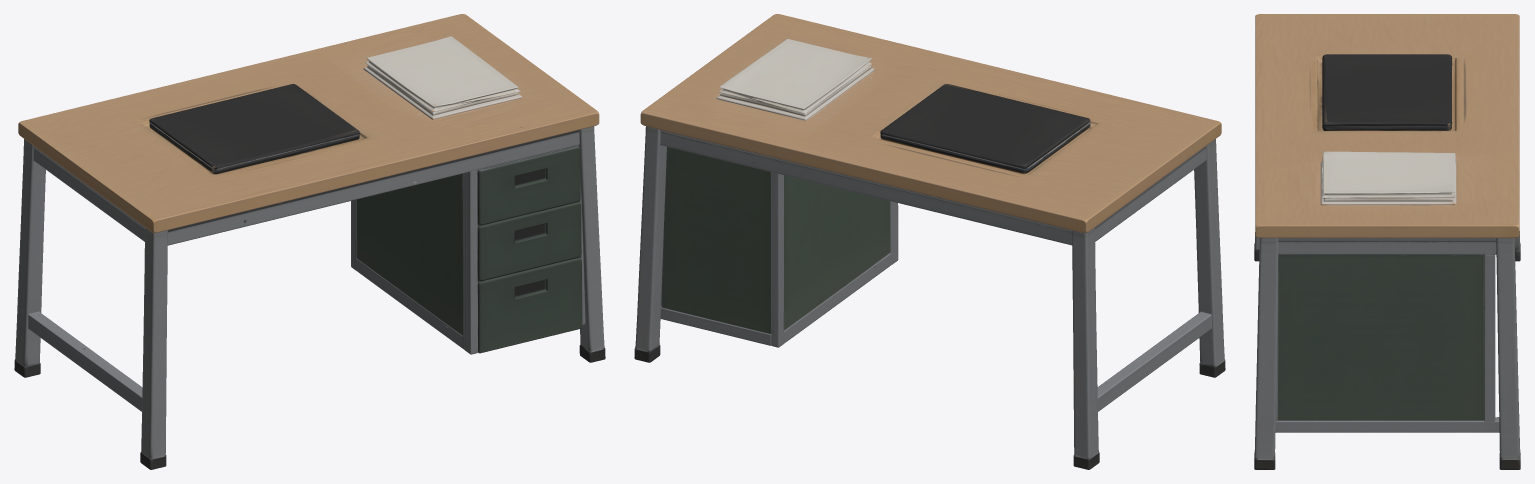
The model's file is office_desk__hunyuan.glb.
3 views of the same model, side by side, from view 1: azimuth 30°, elevation 25°; view 2: azimuth 150°, elevation 25°; view 3: azimuth 270°, elevation 25° (orthographic). The views are drawn at different scales.
Visible parts, largest first — view 1: material; view 2: material; view 3: material.
Boxes of the visible parts, x1,y1,x2,y2 form: material: (14, 14, 605, 469); material: (634, 14, 1225, 469); material: (1254, 14, 1520, 469).
Bounding box in the file's own units: 0.9609 × 0.5254 × 0.5001.
Materials: 1 (1 with a texture image).
